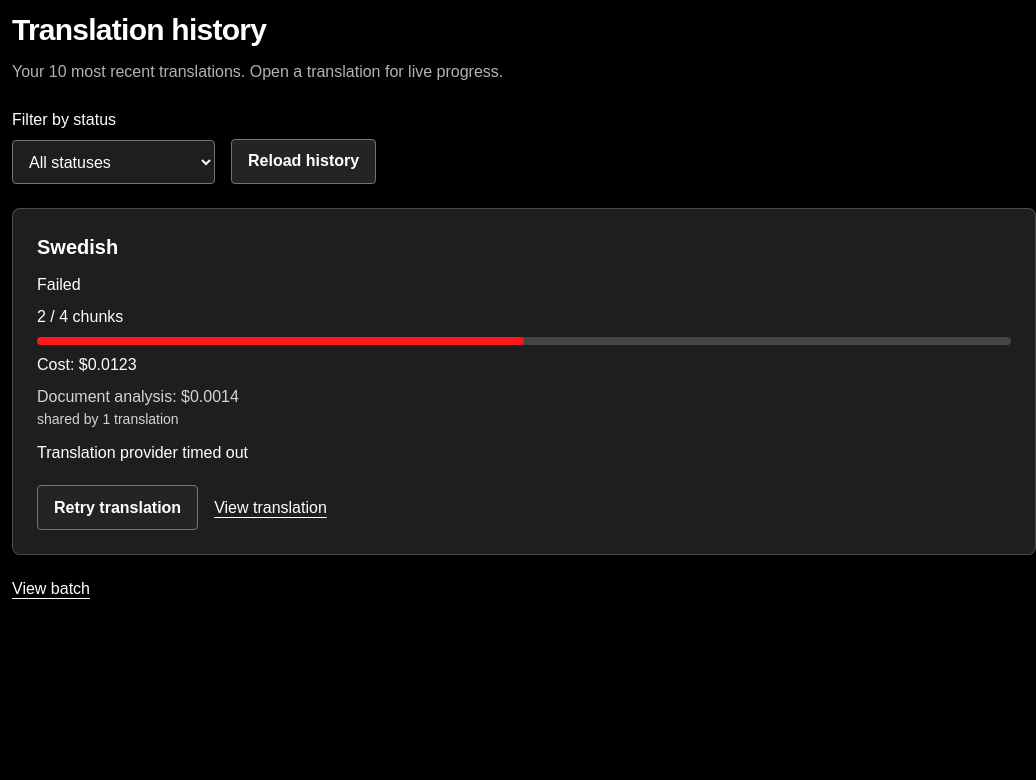
Test: translation history › keeps the shared document cost when retry and status responses carry the single-job zero default
The width and height of the screenshot is (1036, 780).
Click the button "Retry translation". click: (118, 508)
box: x1=37 y1=485 x2=198 y2=530
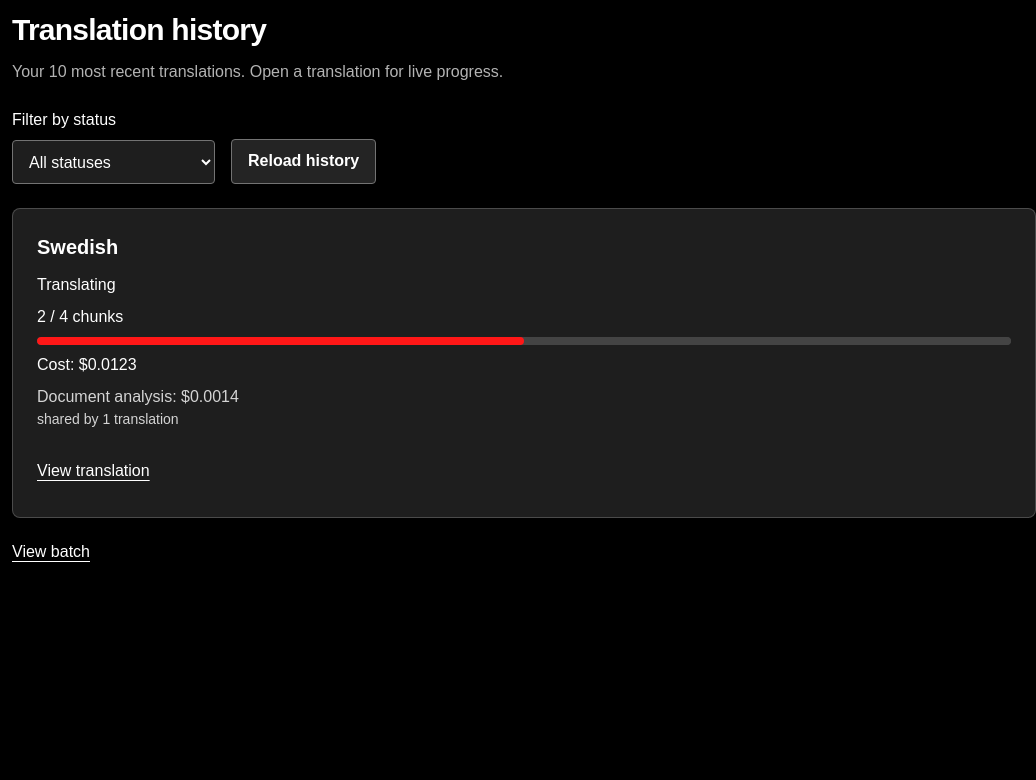
Check: the element named "Document analysis cost, shared by 1 translation" shows "$0.0014", box x1=37 y1=388 x2=239 y2=427
Check: the element named "Translation to Swedish" shows "Translating", box x1=37 y1=276 x2=116 y2=293
